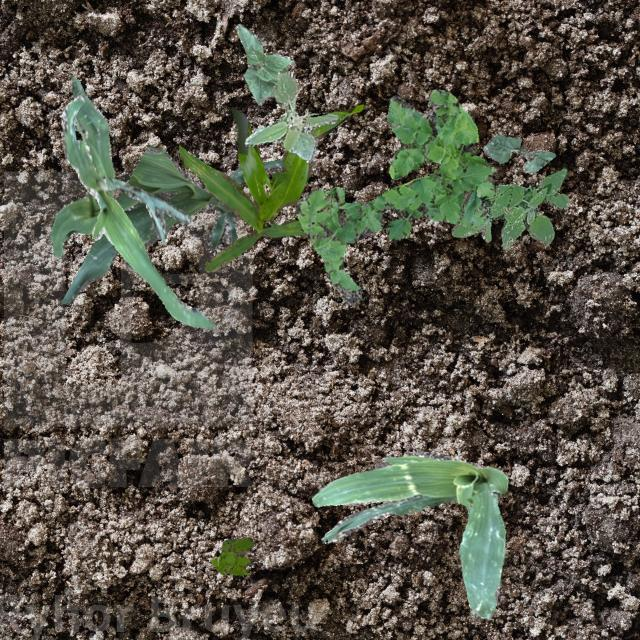crop: (59, 94, 214, 328), (60, 144, 284, 304), (310, 450, 507, 618), (178, 104, 362, 270), (48, 75, 114, 256), (235, 22, 292, 104), (482, 134, 554, 172)
weed: (294, 89, 494, 304), (450, 166, 568, 248), (244, 70, 336, 160), (210, 536, 252, 574)
